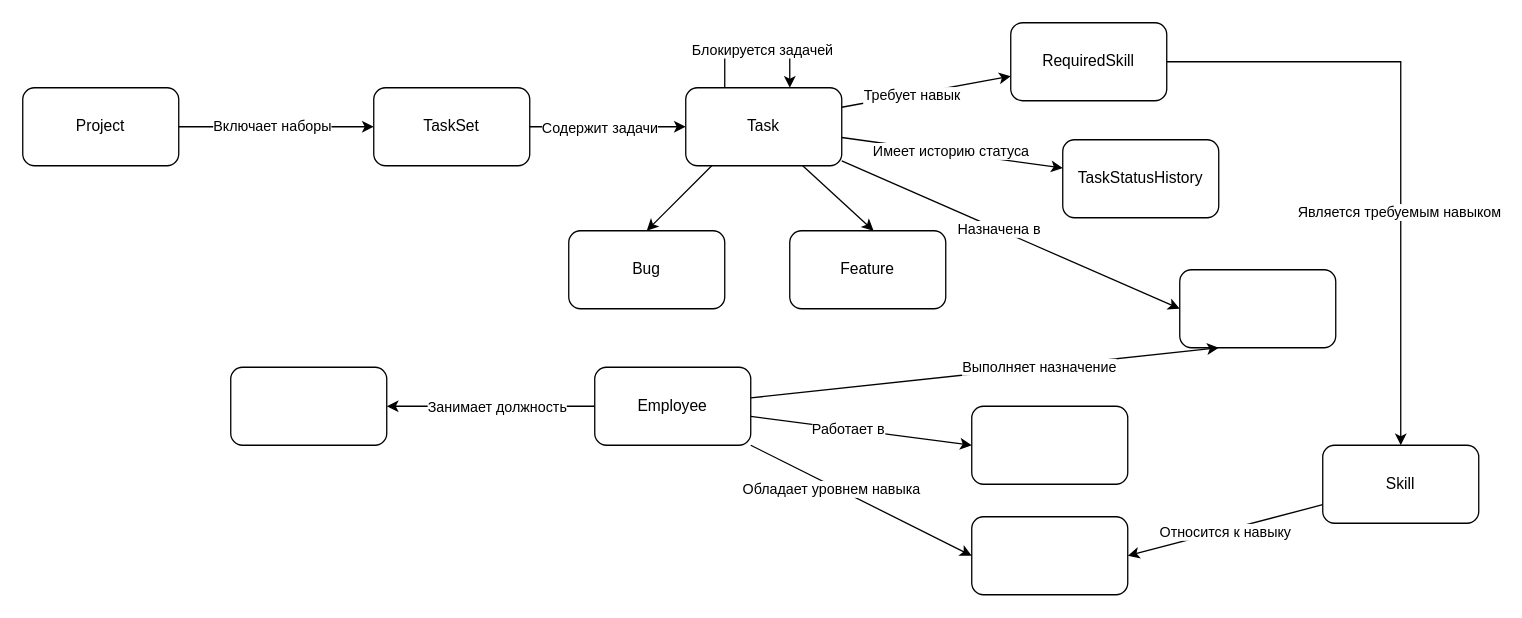
Some shapes in this 1522 by 618 pixel diagram are drawn without their labels. The box of each missing label's shape, as (x1, y1, x2, y2) in pixels:
Assignement: (1178, 268, 1336, 348)
EmployeeSkill: (970, 515, 1128, 595)
Location: (970, 405, 1128, 484)
Position: (229, 366, 387, 445)
